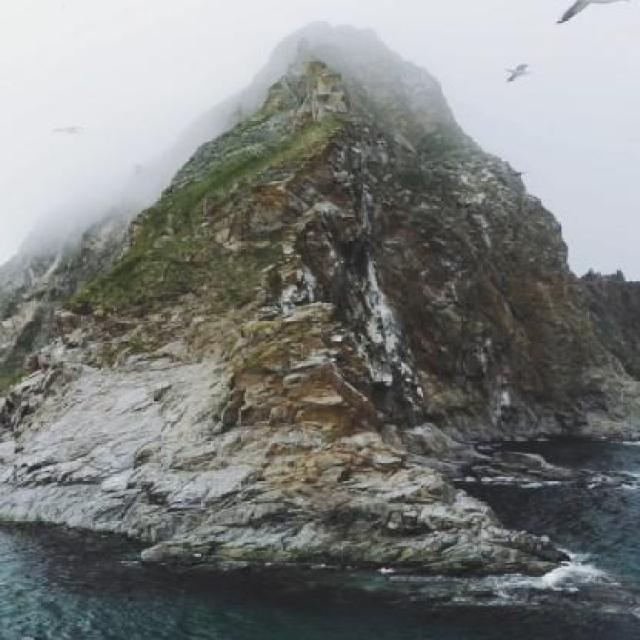bird: (34, 116, 100, 144), (547, 0, 618, 25), (494, 53, 534, 89)
